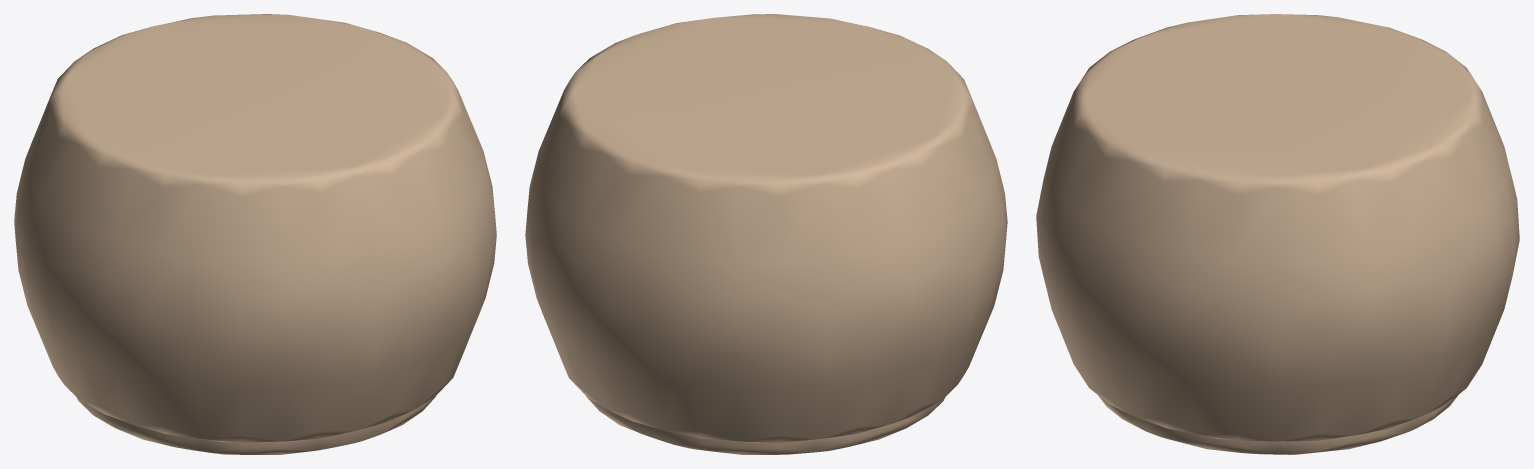
File: stool_05_beige.fbx
3 views of the same model, side by side, from view 1: azimuth 30°, elevation 25°; view 2: azimuth 150°, elevation 25°; view 3: azimuth 270°, elevation 25° (orthographic).
Parts seen in each view (by area): view 1: stool_05_beige; view 2: stool_05_beige; view 3: stool_05_beige.
Boxes of the visible parts, x1=… form: stool_05_beige: x1=14, y1=14, x2=496, y2=454; stool_05_beige: x1=525, y1=14, x2=1007, y2=454; stool_05_beige: x1=1036, y1=14, x2=1519, y2=454.
Bounding box in the file's own units: 74.92 × 48.55 × 74.92.
2 materials, 2 textured.
